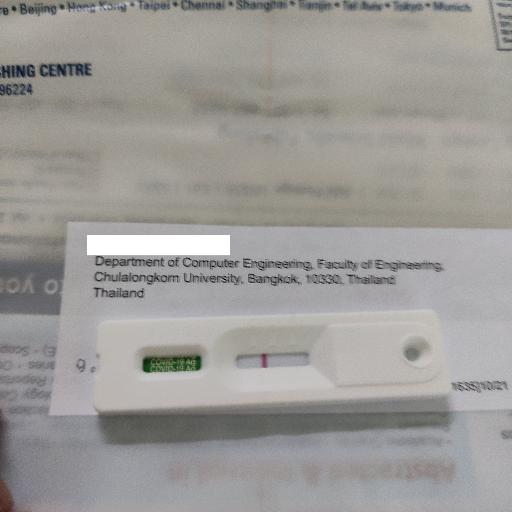Neg: (97, 310, 453, 411)
